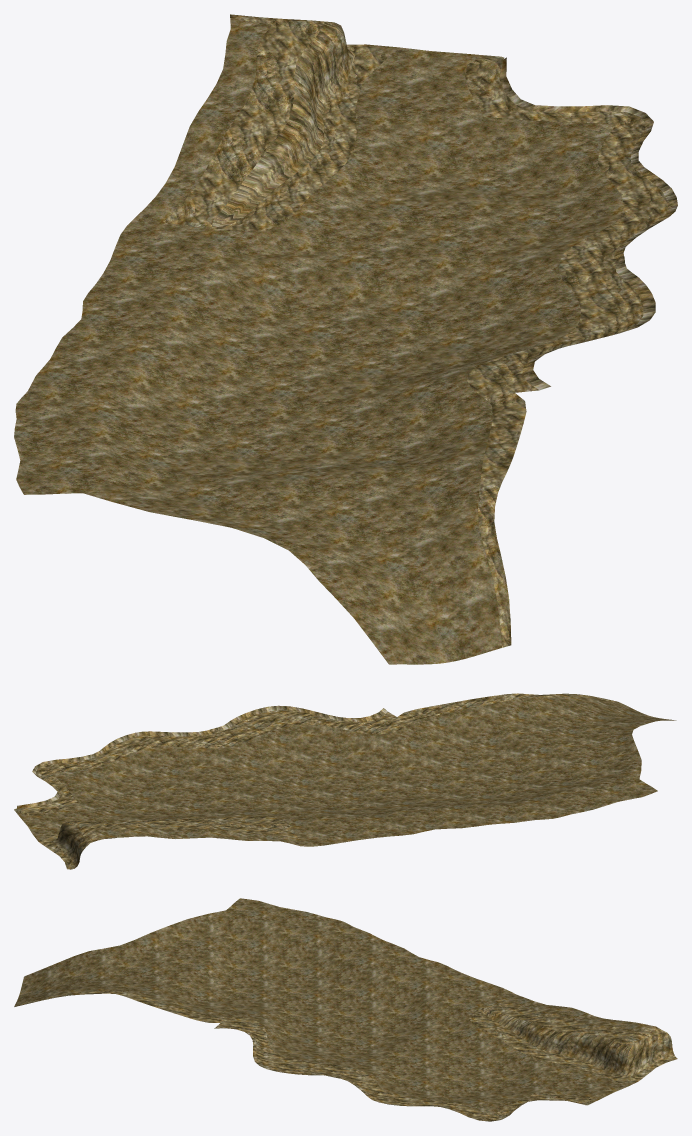
The model's file is RM_PLAYSURFACE_FINAL_MESH03.fbx.
3 views of the same model, one above another, from view 1: azimuth 30°, elevation 25°; view 2: azimuth 150°, elevation 25°; view 3: azimuth 270°, elevation 25° (orthographic). The views are drawn at different scales.
Parts seen in each view (by area): view 1: RM_PLAYSURFACE_FINAL_MESH03; view 2: RM_PLAYSURFACE_FINAL_MESH03; view 3: RM_PLAYSURFACE_FINAL_MESH03.
Part boxes in pixels (left/top/right/bottom): RM_PLAYSURFACE_FINAL_MESH03: left=14, top=14, right=677, bottom=664; RM_PLAYSURFACE_FINAL_MESH03: left=14, top=693, right=676, bottom=869; RM_PLAYSURFACE_FINAL_MESH03: left=14, top=898, right=677, bottom=1121.
Bounding box in the file's own units: 682925 × 94936 × 850812.
Materials: 3 (3 with a texture image).
